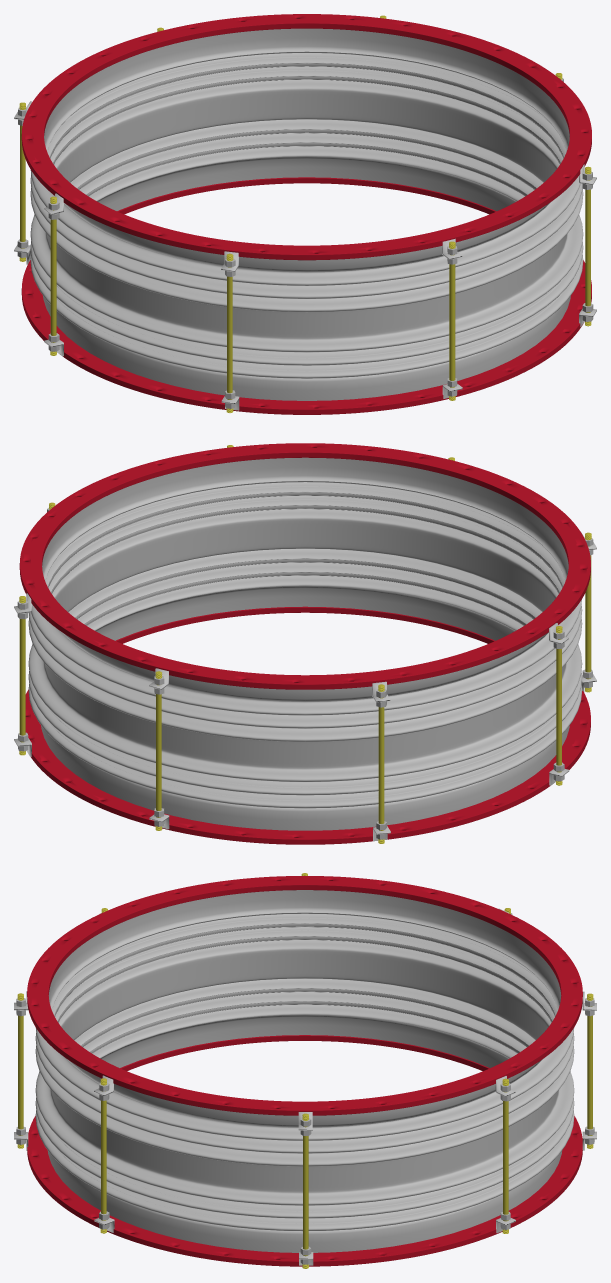
File: single-expansion-joint.glb
The picture shows the model from 3 angles, top to bottom: view 1: azimuth 30°, elevation 25°; view 2: azimuth 150°, elevation 25°; view 3: azimuth 270°, elevation 25°; orthographic projection. The views are drawn at different scales.
Visible parts, largest first — view 1: Single expansion joint 2; view 2: Single expansion joint 2; view 3: Single expansion joint 2.
Boxes of the visible parts, box(x1,y1,x2,y2) form: Single expansion joint 2: box(14, 14, 596, 414); Single expansion joint 2: box(14, 443, 596, 844); Single expansion joint 2: box(14, 873, 596, 1268).
Size of the model in its own units: 0.2918 by 0.0862 by 0.2917.
